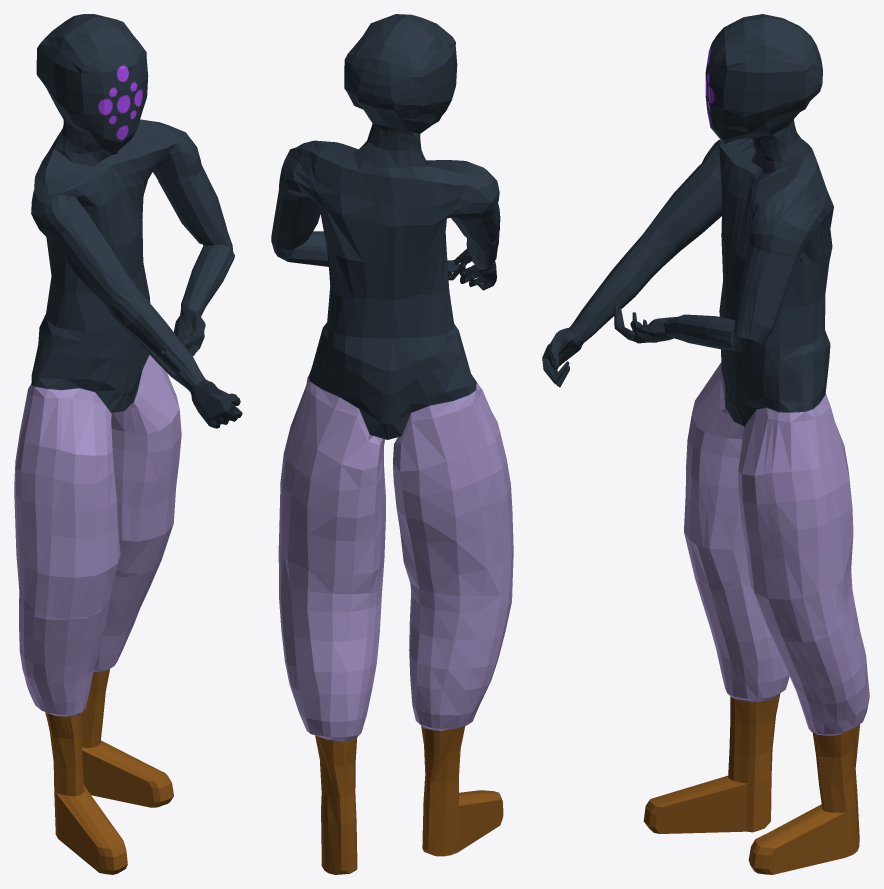
File: Oracle_Attack_000004.obj
The picture shows the model from 3 angles, left to right: view 1: azimuth 30°, elevation 25°; view 2: azimuth 150°, elevation 25°; view 3: azimuth 270°, elevation 25°; orthographic projection. The views are drawn at different scales.
Visible parts, largest first — view 1: Cube; view 2: Cube; view 3: Cube.
Boxes of the visible parts, left/top/right/bottom form: Cube: left=14, top=14, right=242, bottom=874; Cube: left=271, top=14, right=513, bottom=874; Cube: left=542, top=14, right=869, bottom=874.
Bounding box in the file's own units: 1.1 × 3.94 × 1.41.
